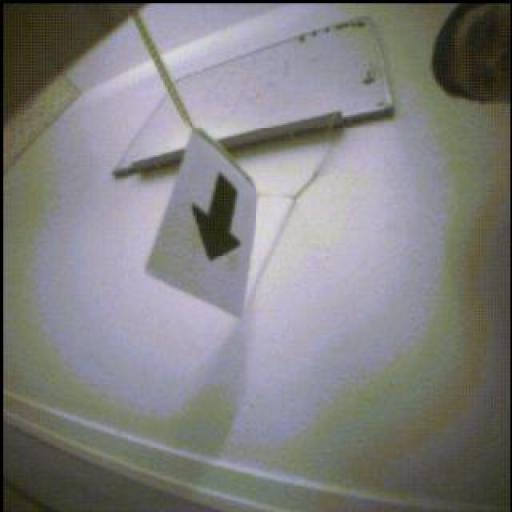Arrow: (193, 176, 241, 261)
